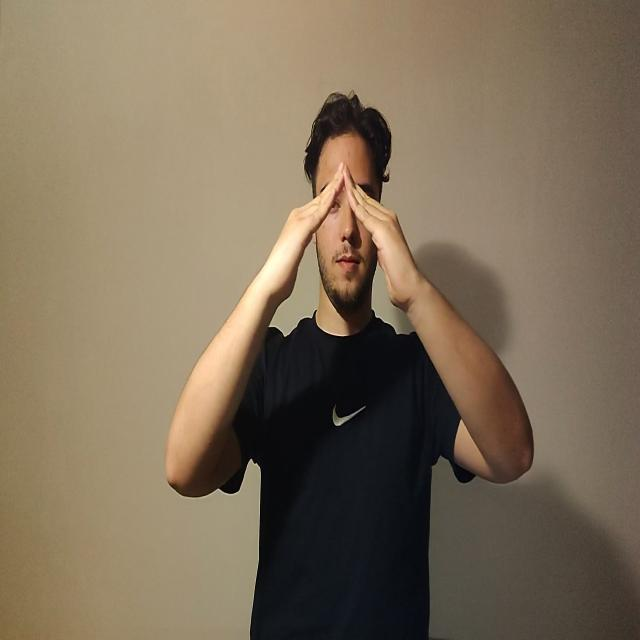house: (269, 165, 420, 308)
